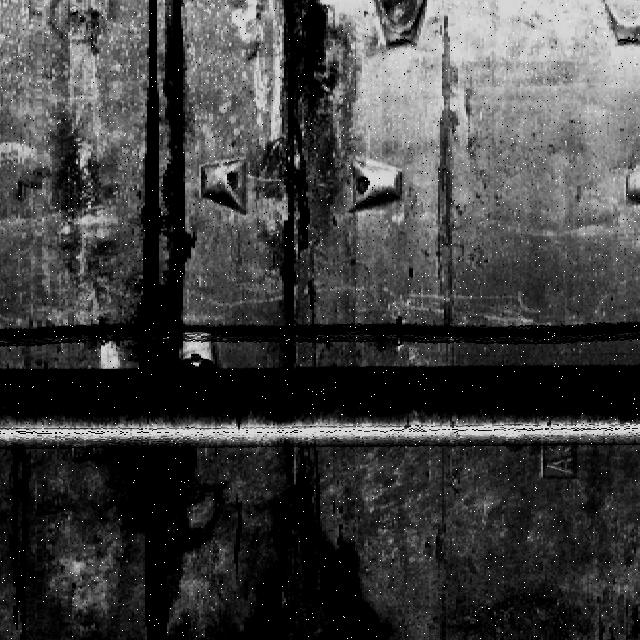leakage: (257, 1, 350, 361), (238, 439, 404, 639), (83, 429, 223, 639), (131, 0, 185, 364)
